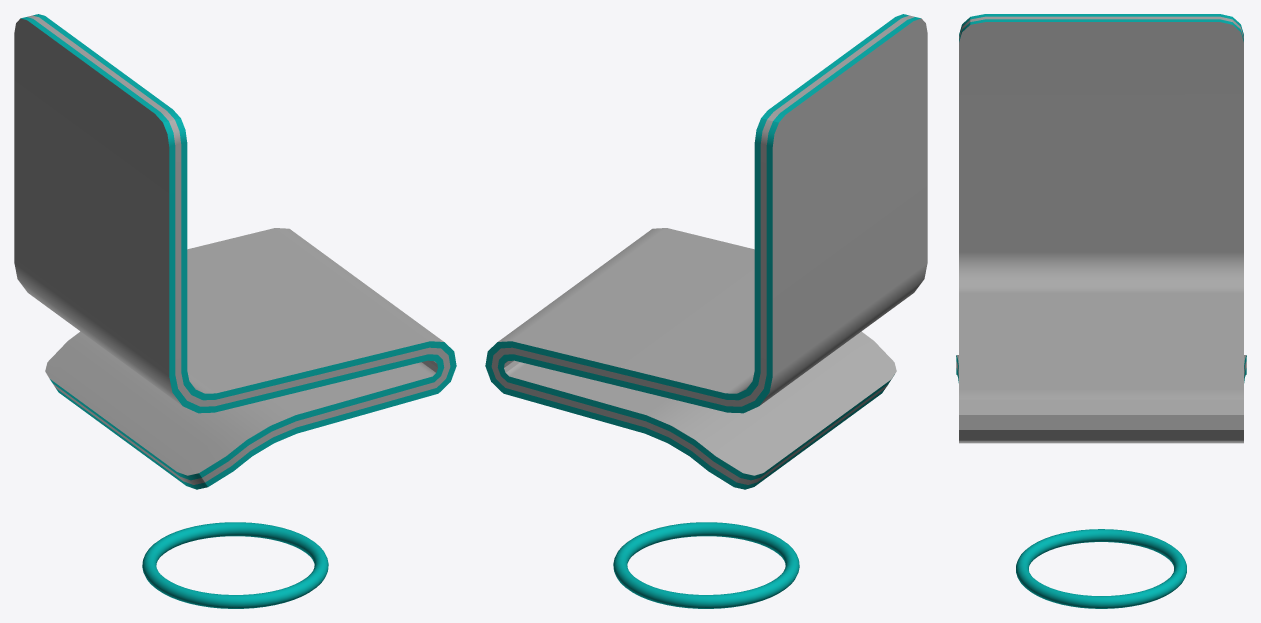
Rendered from office_chair.fbx.
3 views of the same model, side by side, from view 1: azimuth 30°, elevation 25°; view 2: azimuth 150°, elevation 25°; view 3: azimuth 270°, elevation 25° (orthographic). The views are drawn at different scales.
Visible parts, largest first — view 1: pCube3, pTorus1; view 2: pCube3, pTorus1; view 3: pCube3, pTorus1.
Part boxes in pixels (left/top/right/bottom): pCube3: left=14, top=14, right=456, bottom=489; pTorus1: left=142, top=522, right=328, bottom=608; pCube3: left=485, top=14, right=927, bottom=489; pTorus1: left=613, top=522, right=799, bottom=608; pCube3: left=956, top=14, right=1246, bottom=443; pTorus1: left=1016, top=529, right=1186, bottom=608.
Size of the model in its own units: 4.43 by 7.95 by 4.22.
